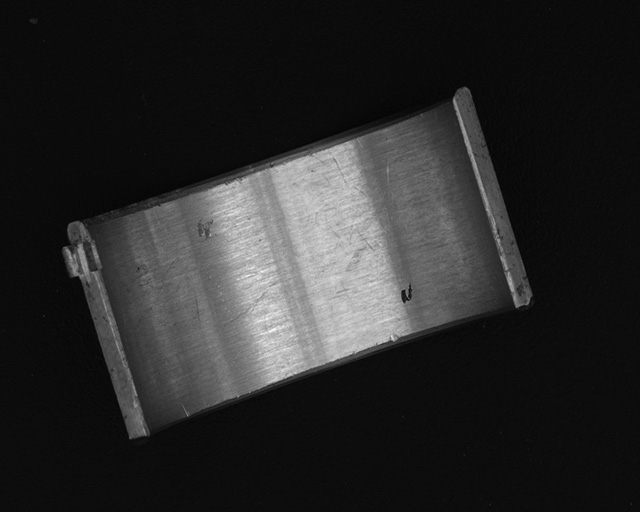blot: (337, 221, 384, 277), (400, 282, 413, 306)
bruise: (196, 217, 214, 240), (389, 334, 398, 343)
nick: (223, 278, 280, 326), (179, 404, 190, 418)
